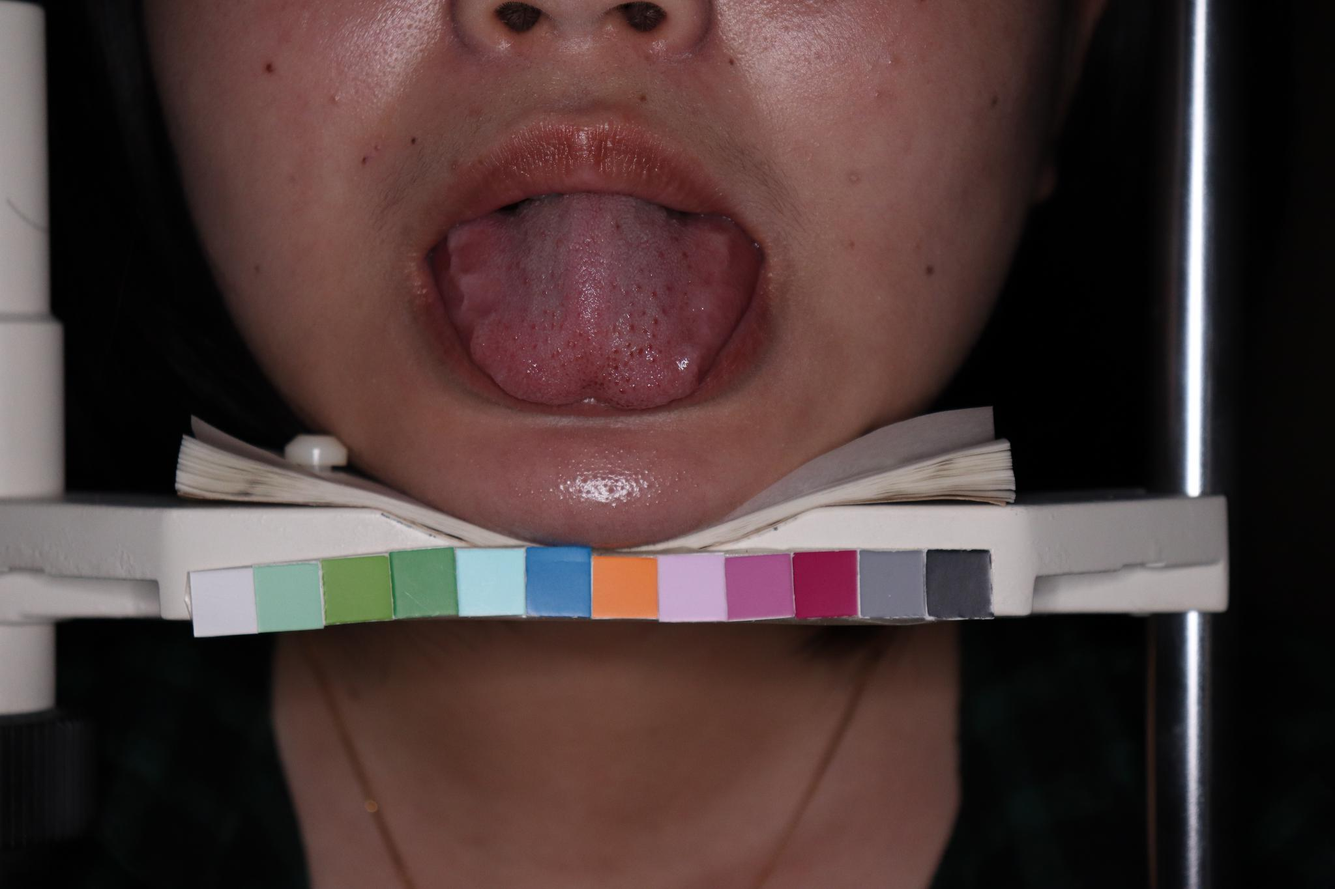baitaishe: (432, 197, 756, 410)
gandanao: (438, 208, 538, 349), (660, 214, 750, 358)
hongdianshe: (612, 347, 621, 356), (649, 289, 657, 299), (641, 309, 649, 318), (637, 346, 643, 357), (651, 317, 658, 326), (628, 322, 635, 331), (624, 339, 631, 348), (611, 363, 620, 370), (624, 376, 631, 383), (649, 356, 656, 363), (618, 387, 626, 393)
xinfeiao: (542, 385, 640, 408)
